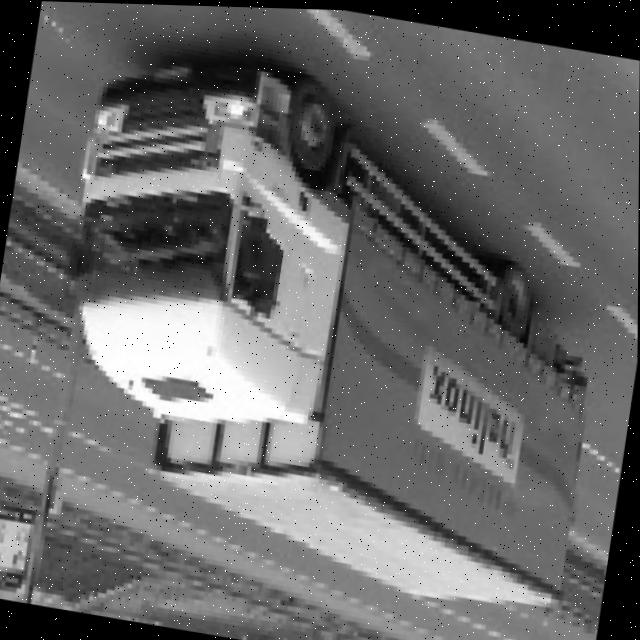truck: (35, 25, 397, 461)
